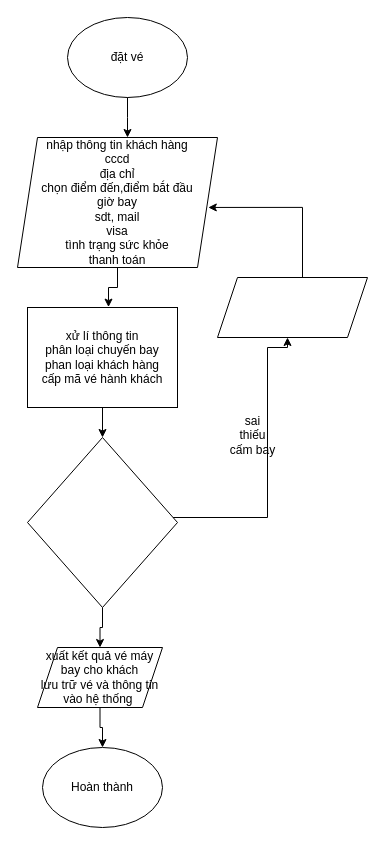
Some shapes in this 385 by 845 pixel diagram are drawn without their labels. Each missing label, with the centre of its shape:
Hủy mã vé hoàn tiền: the point at 292,307
điều kiện bay đầy đủ thông tin không bị cấm bay: the point at 102,522
